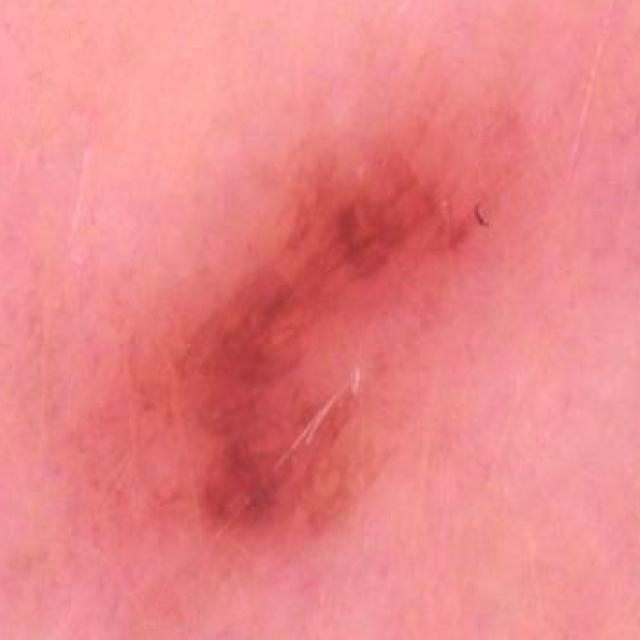NV: (66, 83, 576, 595)
